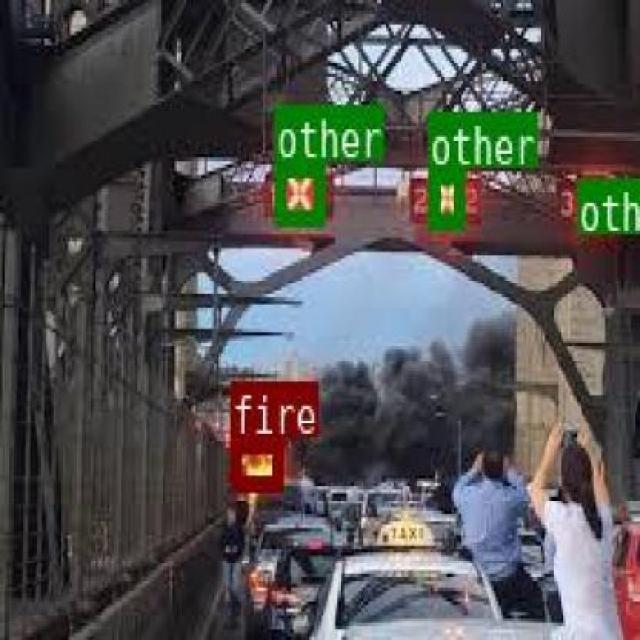fire: (228, 435, 281, 491)
